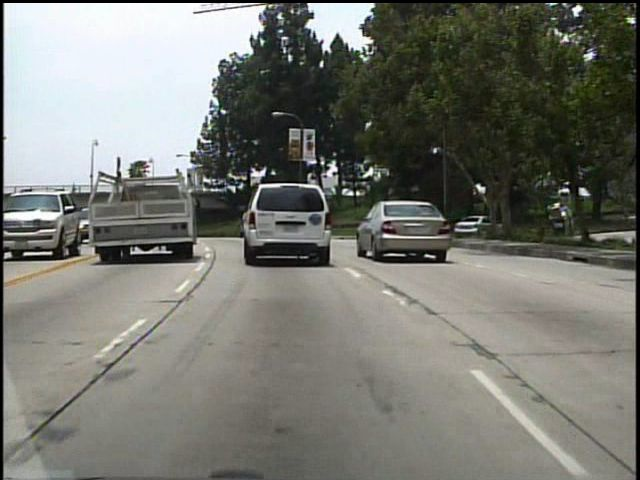person: (69, 180, 80, 200)
